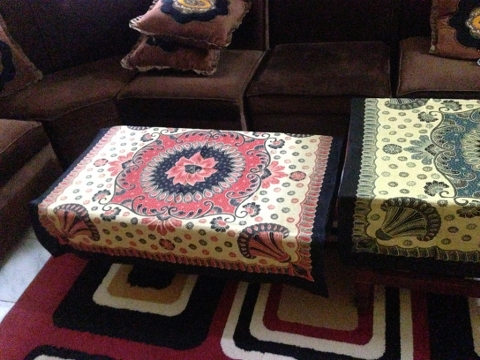meja: (33, 126, 344, 289)
